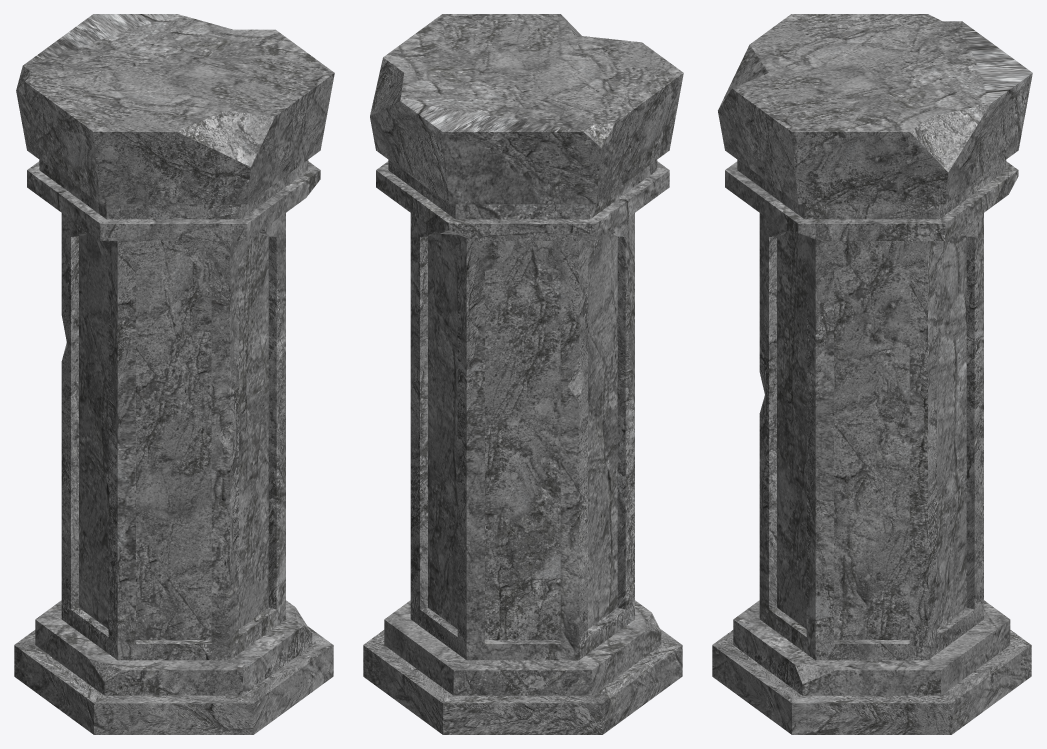
File: materials_3_pedestal_6.fbx
The picture shows the model from 3 angles, left to right: view 1: azimuth 30°, elevation 25°; view 2: azimuth 150°, elevation 25°; view 3: azimuth 270°, elevation 25°; orthographic projection.
Visible parts, largest first — view 1: materials_3_pedestal_6; view 2: materials_3_pedestal_6; view 3: materials_3_pedestal_6.
Boxes of the visible parts, x1=… form: materials_3_pedestal_6: x1=14, y1=14, x2=334, y2=734; materials_3_pedestal_6: x1=363, y1=14, x2=683, y2=734; materials_3_pedestal_6: x1=712, y1=14, x2=1032, y2=734.
Bounding box in the file's own units: 71.07 × 170 × 81.73.
